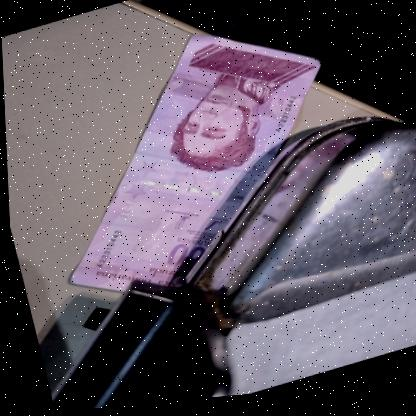one_hundred-front-vef: (17, 2, 361, 319)
